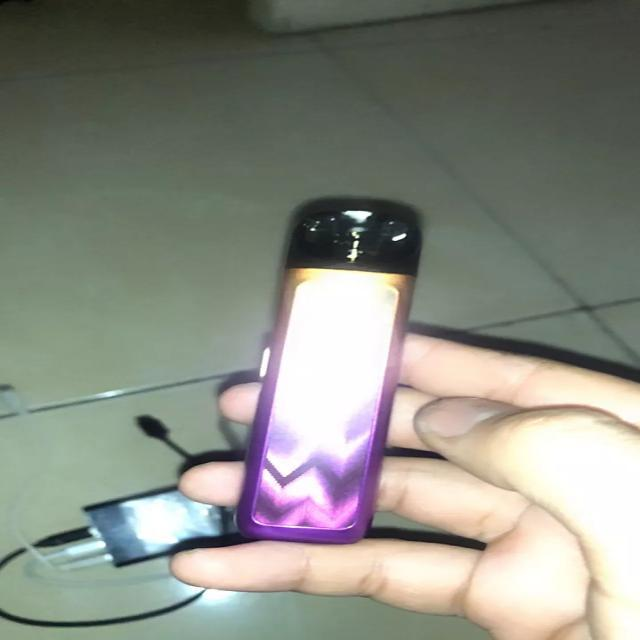Hazard: (234, 194, 430, 544)
